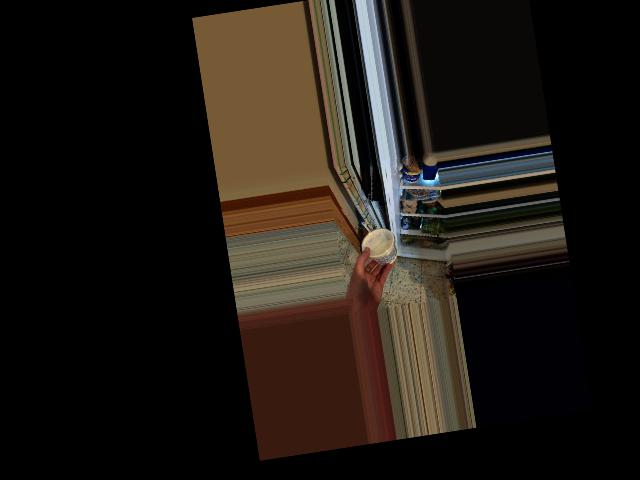cotage: (362, 227, 396, 265)
